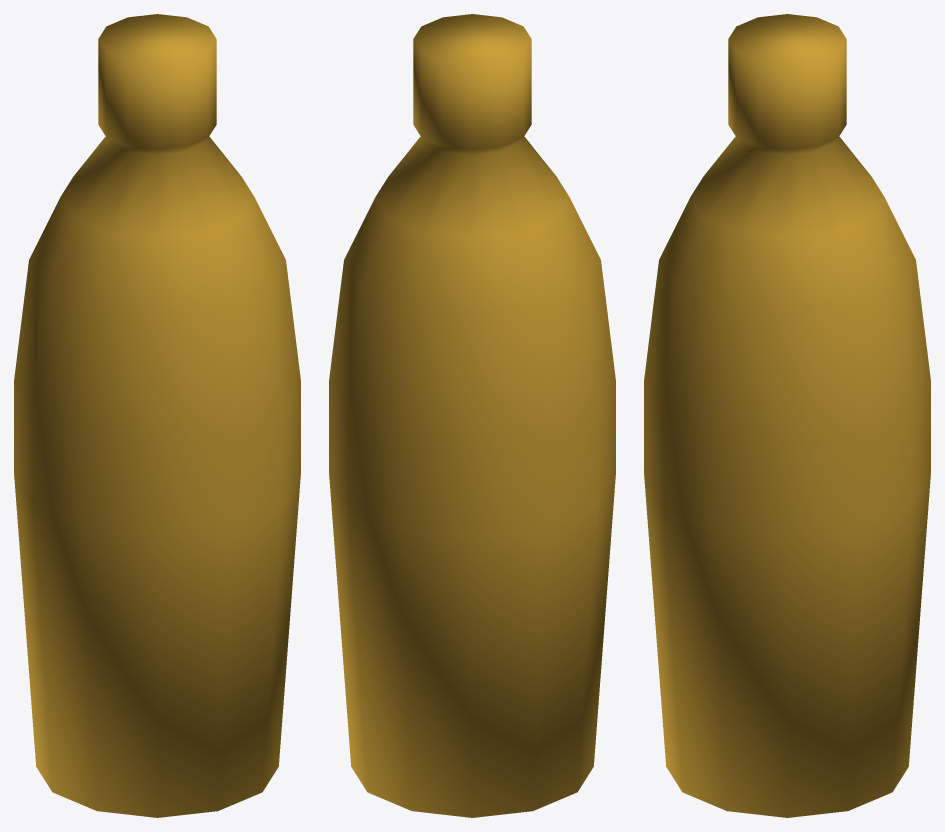
File: SM_soysauce.fbx
3 views of the same model, side by side, from view 1: azimuth 30°, elevation 25°; view 2: azimuth 150°, elevation 25°; view 3: azimuth 270°, elevation 25° (orthographic).
Visible parts, largest first — view 1: Cylinder118; view 2: Cylinder118; view 3: Cylinder118.
Boxes of the visible parts, bbox=[...] form: Cylinder118: bbox=[14, 14, 300, 817]; Cylinder118: bbox=[329, 14, 615, 817]; Cylinder118: bbox=[644, 14, 930, 817].
Bounding box in the file's own units: 5.43 × 15.2 × 5.43.
